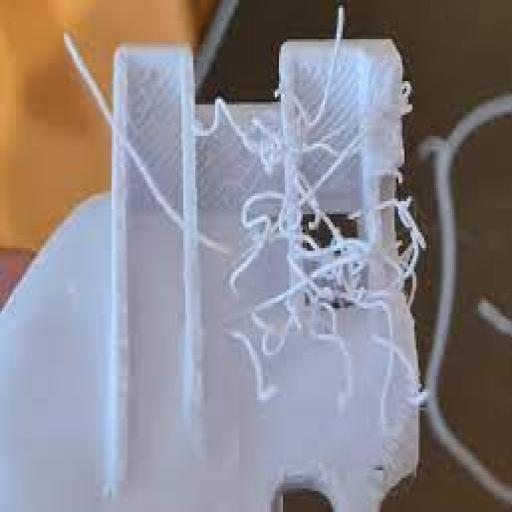spaghetti: (192, 78, 481, 394)
